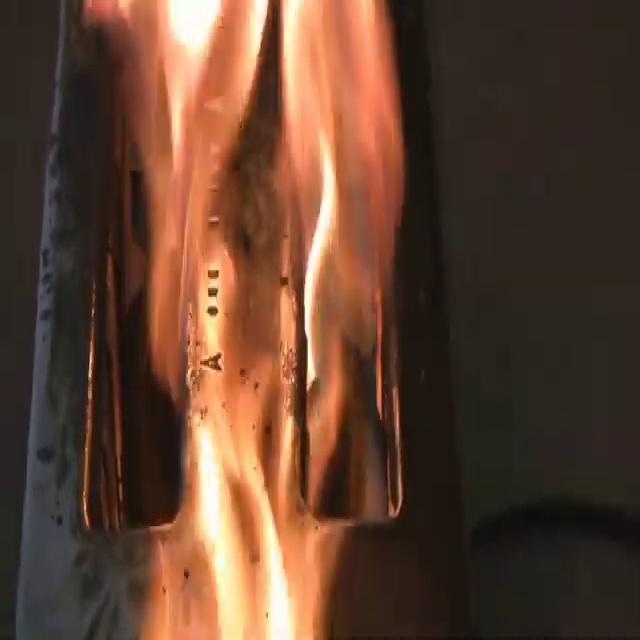fire: (81, 0, 407, 640)
